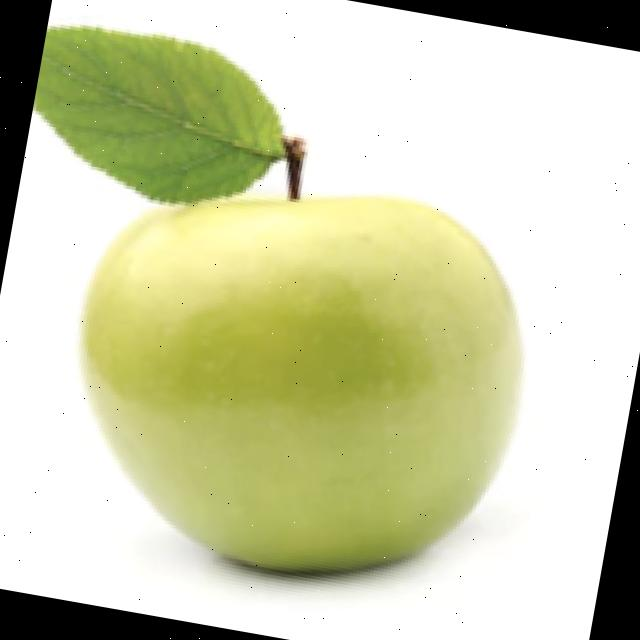apple: (32, 12, 527, 603)
